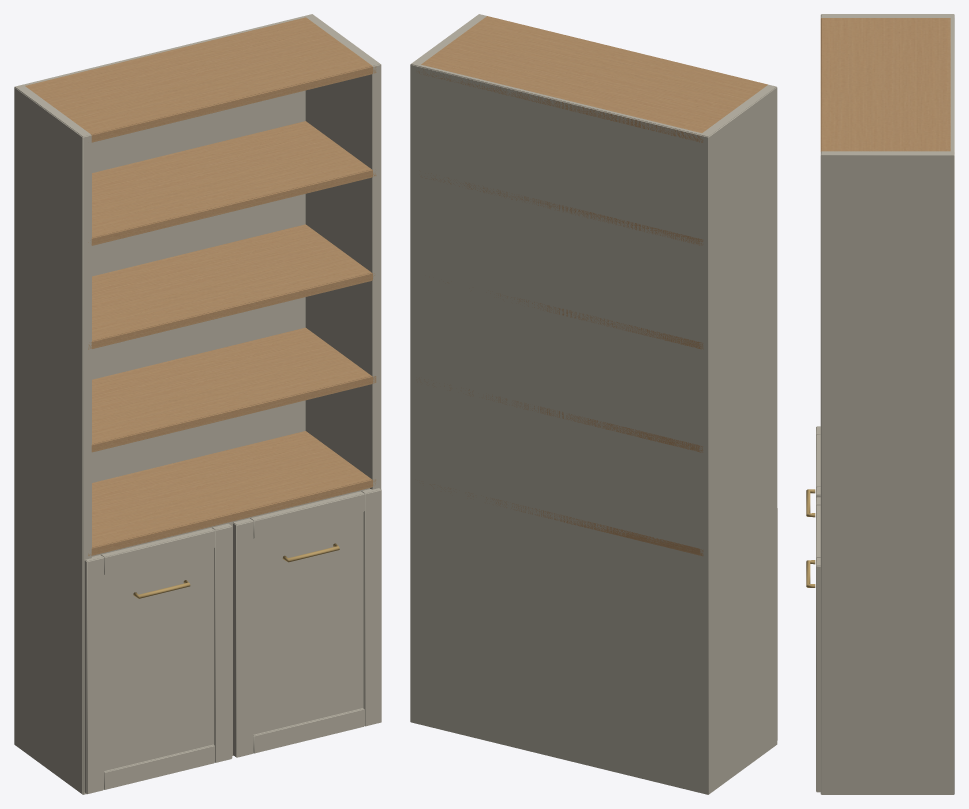
File: shared.alcove_unit.gltf
The picture shows the model from 3 angles, left to right: view 1: azimuth 30°, elevation 25°; view 2: azimuth 150°, elevation 25°; view 3: azimuth 270°, elevation 25°; orthographic projection. The views are drawn at different scales.
Visible parts, largest first — view 1: shared.alcove_unit.upright; view 2: shared.alcove_unit.upright; view 3: shared.alcove_unit.upright.
Part boxes in pixels (x1,y1,x2,y2): shared.alcove_unit.upright: (14, 14, 381, 794); shared.alcove_unit.upright: (410, 14, 777, 794); shared.alcove_unit.upright: (806, 14, 954, 794).
Bounding box in the file's own units: 0.95 × 2 × 0.421.
3 materials, 1 textured.
